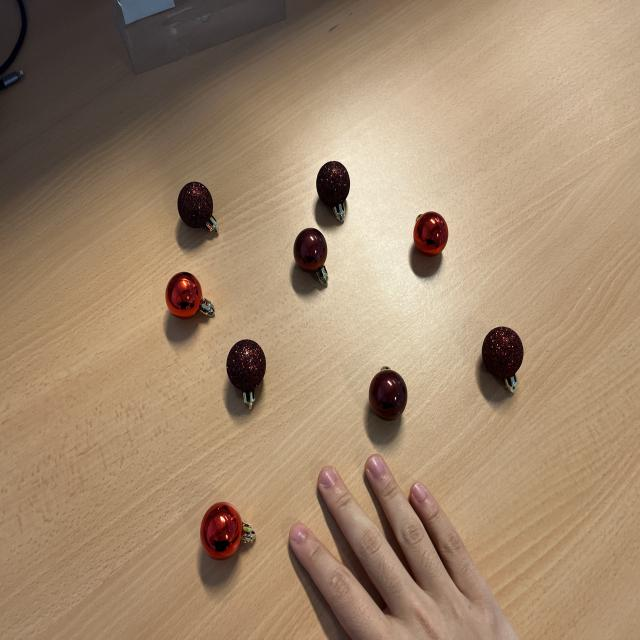glitter-bauble: (476, 318, 526, 401), (306, 156, 359, 226), (224, 335, 270, 411), (174, 178, 224, 238), (226, 339, 266, 410), (481, 327, 523, 393), (177, 182, 219, 234), (316, 161, 350, 222)
glossy-bauble: (196, 496, 258, 562), (200, 502, 257, 560), (163, 268, 217, 322), (165, 272, 215, 320), (407, 209, 451, 258), (413, 211, 449, 258)
wine-red-bauble: (363, 358, 413, 426), (288, 226, 336, 291), (369, 366, 408, 421), (293, 228, 329, 286)
